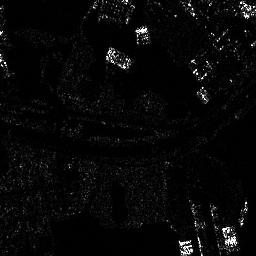ship: (239, 200, 248, 227)
